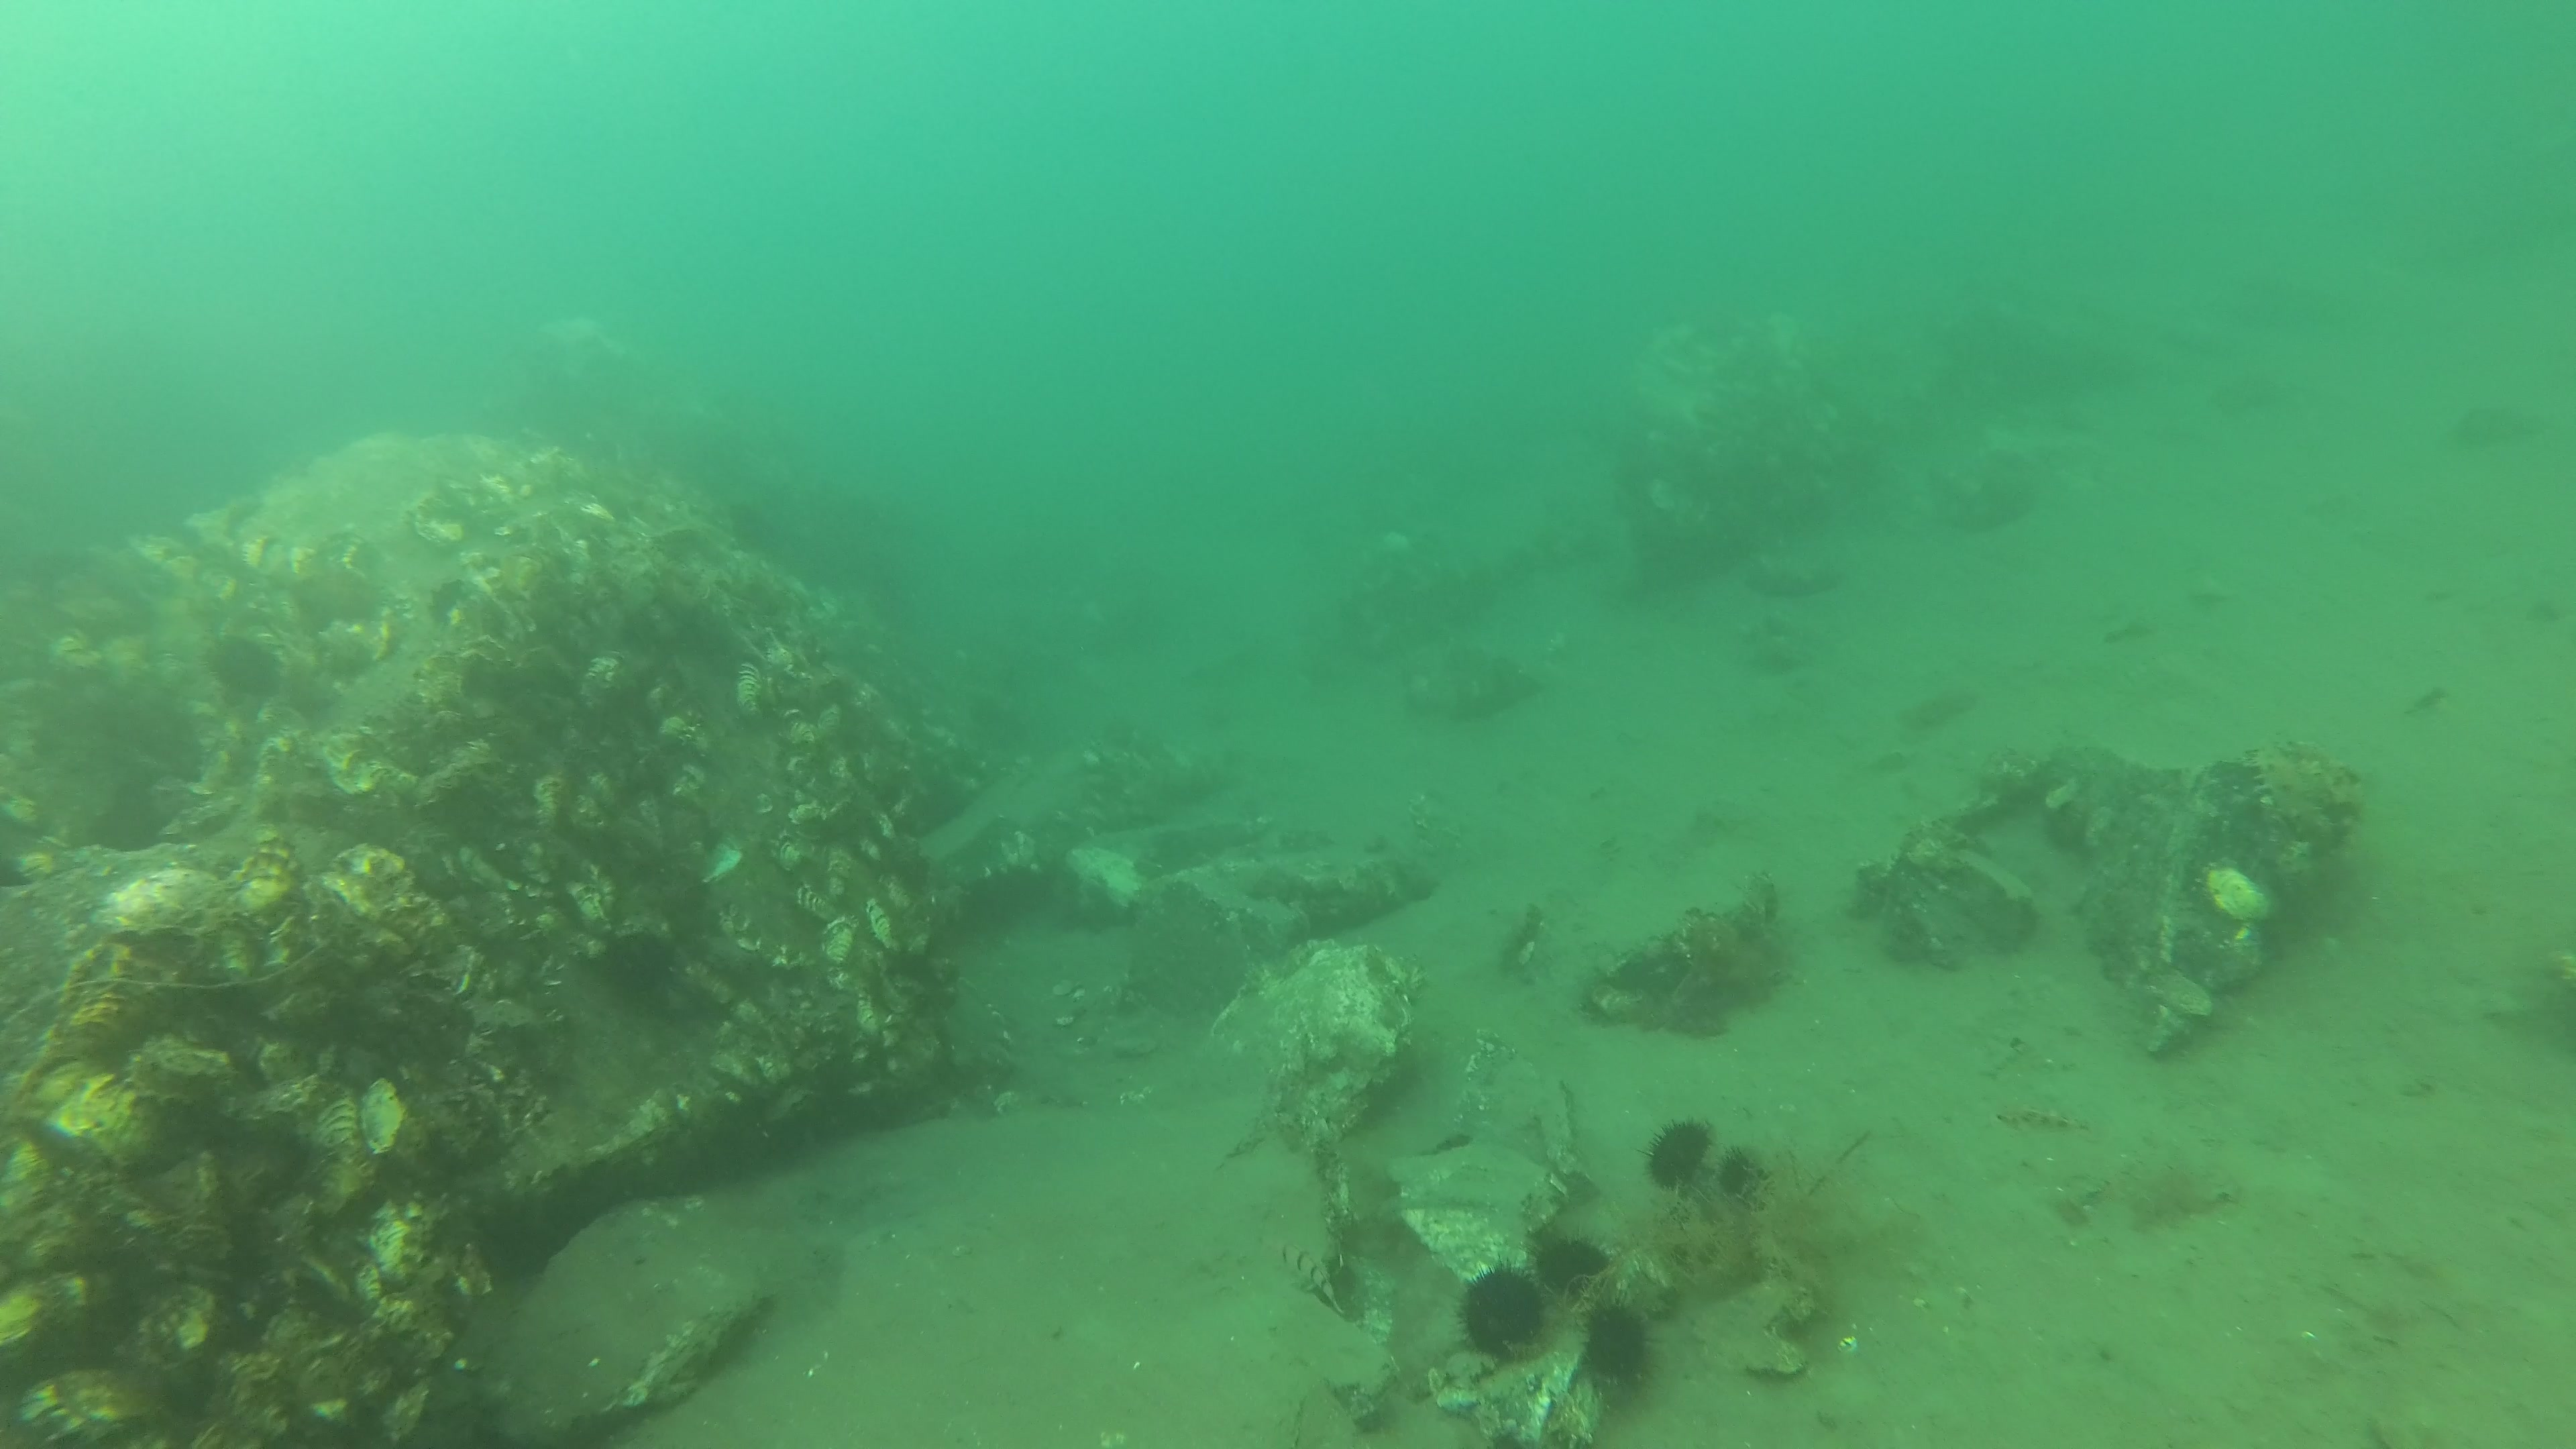echinus: (1458, 1261, 1550, 1361), (203, 639, 283, 717), (594, 932, 678, 998), (1649, 1115, 1718, 1189), (1529, 1230, 1610, 1292), (1582, 1306, 1644, 1382), (1723, 1143, 1766, 1196)
